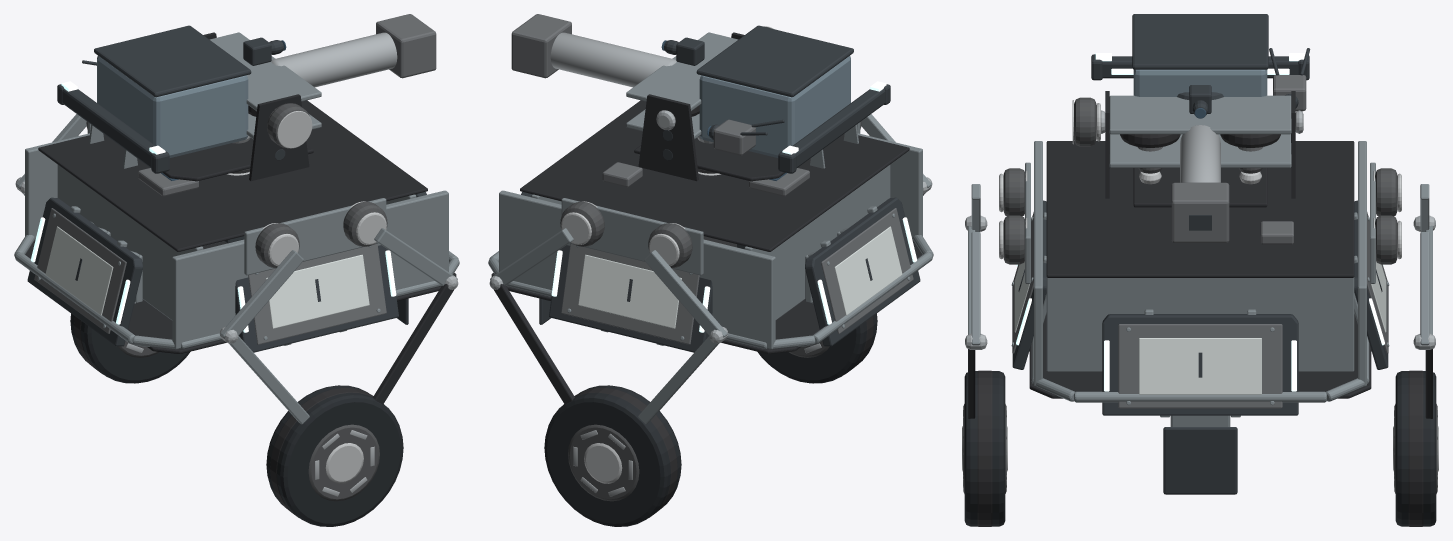
Rendered from robot-103-spec2026v4.glb.
The picture shows the model from 3 angles, left to right: view 1: azimuth 30°, elevation 25°; view 2: azimuth 150°, elevation 25°; view 3: azimuth 270°, elevation 25°; orthographic projection. The views are drawn at different scales.
Parts seen in each view (by area): view 1: Chassis_RobotMatteAluminum, Chassis_CarbonPlate, Tyre, MagazineBox, MagazineLid, Turret_CarbonPlate, ArmorSticker.003, GunPitch_MachinedAlloy, ArmorHitFace.003, ArmorModuleBody.002, ArmorSticker.002, GunPitch_RobotMatteAluminum (+20 smaller); view 2: Chassis_RobotMatteAluminum, Chassis_CarbonPlate, Tyre.001, MagazineBox, MagazineLid, Turret_CarbonPlate, ArmorSticker.001, GunPitch_MachinedAlloy, ArmorHitFace.001, ArmorModuleBody.002, ArmorSticker.002, Turret_RobotMatteGraphite (+19 smaller); view 3: Chassis_CarbonPlate, Chassis_RobotMatteAluminum, GunPitch_RobotMatteAluminum, MagazineLid, ArmorSticker, ArmorHitFace, ArmorModuleBody, Chassis_RobotMatteGraphite, Chassis_MotorHousing, Tyre, Tyre.001, Turret_CarbonPlate (+24 smaller).
Boxes of the visible parts, x1=… form: Chassis_RobotMatteAluminum: x1=14, y1=122, x2=459, y2=349; Chassis_CarbonPlate: x1=25, y1=100, x2=456, y2=353; Tyre: x1=266, y1=385, x2=403, y2=526; MagazineBox: x1=97, y1=56, x2=248, y2=157; MagazineLid: x1=94, y1=25, x2=251, y2=97; Turret_CarbonPlate: x1=162, y1=32, x2=313, y2=181; ArmorSticker.003: x1=266, y1=254, x2=369, y2=328; GunPitch_MachinedAlloy: x1=271, y1=32, x2=397, y2=87; ArmorHitFace.003: x1=248, y1=243, x2=386, y2=344; ArmorModuleBody.002: x1=27, y1=197, x2=142, y2=346; ArmorSticker.002: x1=45, y1=226, x2=113, y2=315; GunPitch_RobotMatteAluminum: x1=209, y1=32, x2=321, y2=139; Chassis_RobotMatteAluminum: x1=488, y1=122, x2=933, y2=349; Chassis_CarbonPlate: x1=491, y1=100, x2=922, y2=353; Tyre.001: x1=544, y1=385, x2=681, y2=526; MagazineBox: x1=699, y1=56, x2=850, y2=157; MagazineLid: x1=696, y1=25, x2=853, y2=97; Turret_CarbonPlate: x1=634, y1=32, x2=785, y2=181; ArmorSticker.001: x1=578, y1=254, x2=681, y2=328; GunPitch_MachinedAlloy: x1=550, y1=32, x2=676, y2=87; ArmorHitFace.001: x1=561, y1=243, x2=699, y2=344; ArmorModuleBody.002: x1=805, y1=197, x2=920, y2=346; ArmorSticker.002: x1=834, y1=226, x2=902, y2=315; Turret_RobotMatteGraphite: x1=662, y1=84, x2=890, y2=173; Chassis_CarbonPlate: x1=1029, y1=141, x2=1371, y2=398; Chassis_RobotMatteAluminum: x1=1025, y1=141, x2=1375, y2=426; GunPitch_RobotMatteAluminum: x1=1109, y1=95, x2=1291, y2=167; MagazineLid: x1=1132, y1=14, x2=1268, y2=69; ArmorSticker: x1=1139, y1=338, x2=1261, y2=394; ArmorHitFace: x1=1118, y1=324, x2=1282, y2=408; ArmorModuleBody: x1=1102, y1=314, x2=1298, y2=415; Chassis_RobotMatteGraphite: x1=1163, y1=427, x2=1237, y2=494; Chassis_MotorHousing: x1=1003, y1=168, x2=1397, y2=264; Tyre: x1=964, y1=371, x2=1005, y2=526; Tyre.001: x1=1395, y1=371, x2=1436, y2=526; Turret_CarbonPlate: x1=1105, y1=91, x2=1295, y2=207.
Bounding box in the file's own units: 0.6055 × 0.6625 × 0.6416.
